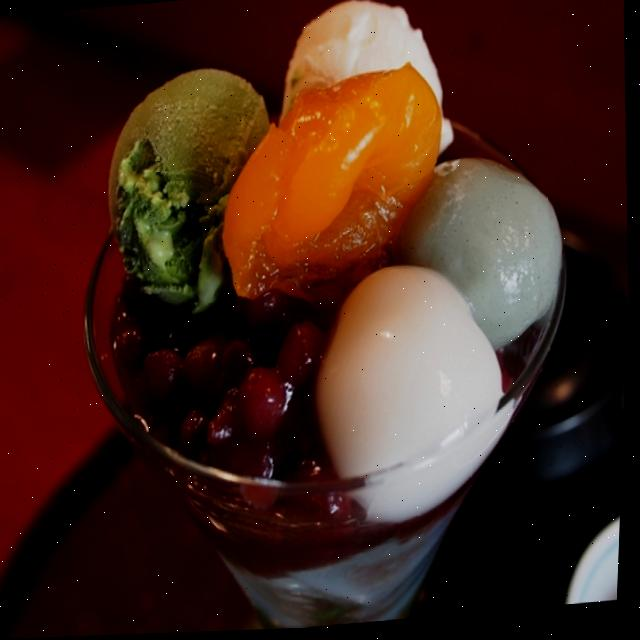蛋糕甜品: (45, 0, 604, 638)
